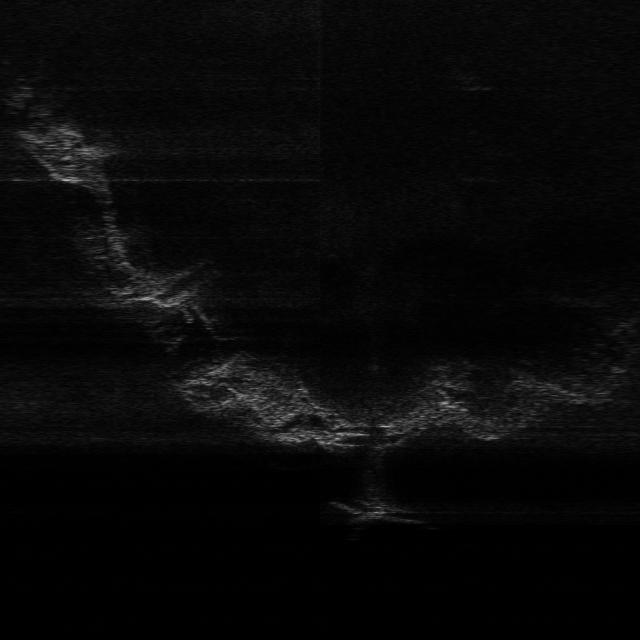plane: (329, 497, 428, 527)
